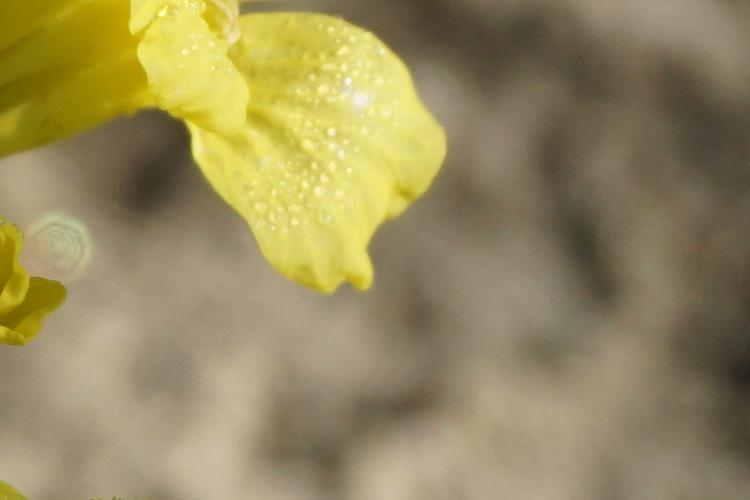yellow: (18, 11, 437, 289)
